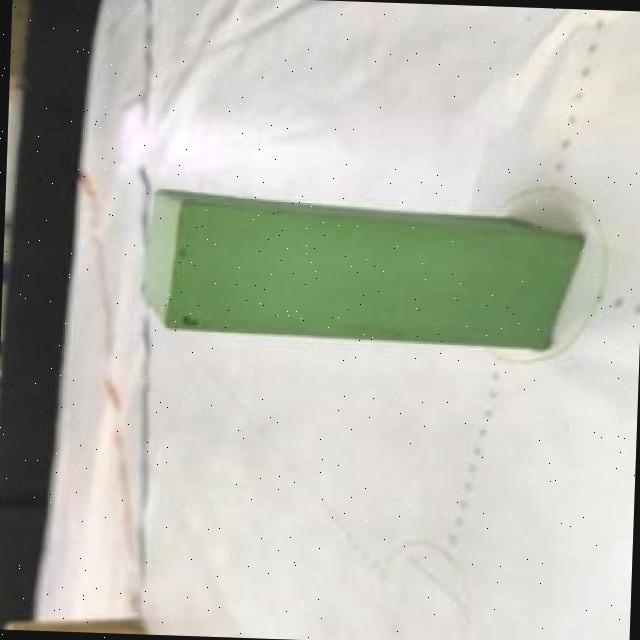greenbox: (131, 184, 586, 354)
